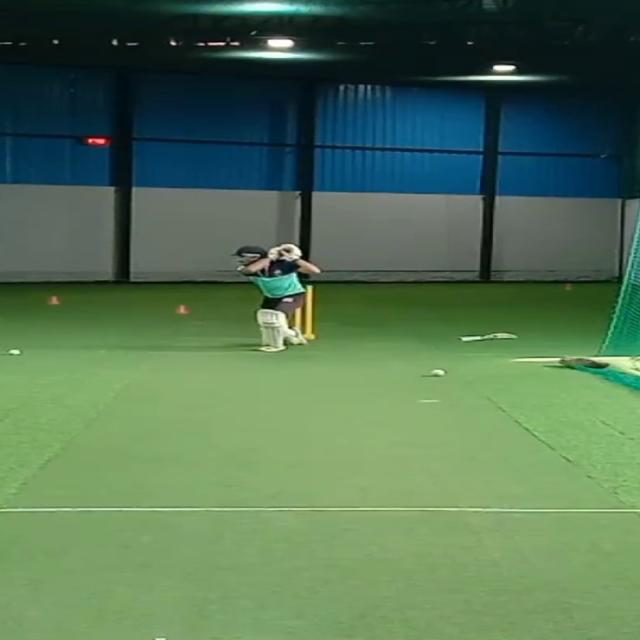ball: (420, 365, 452, 378), (6, 342, 27, 358)
stump: (293, 279, 321, 341)
